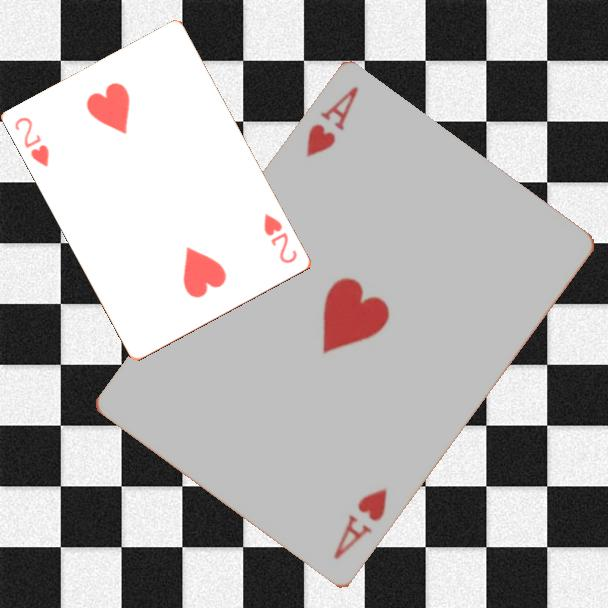h01: (330, 485, 391, 564), (302, 83, 362, 161)
h02: (11, 114, 53, 170), (260, 210, 301, 267)
